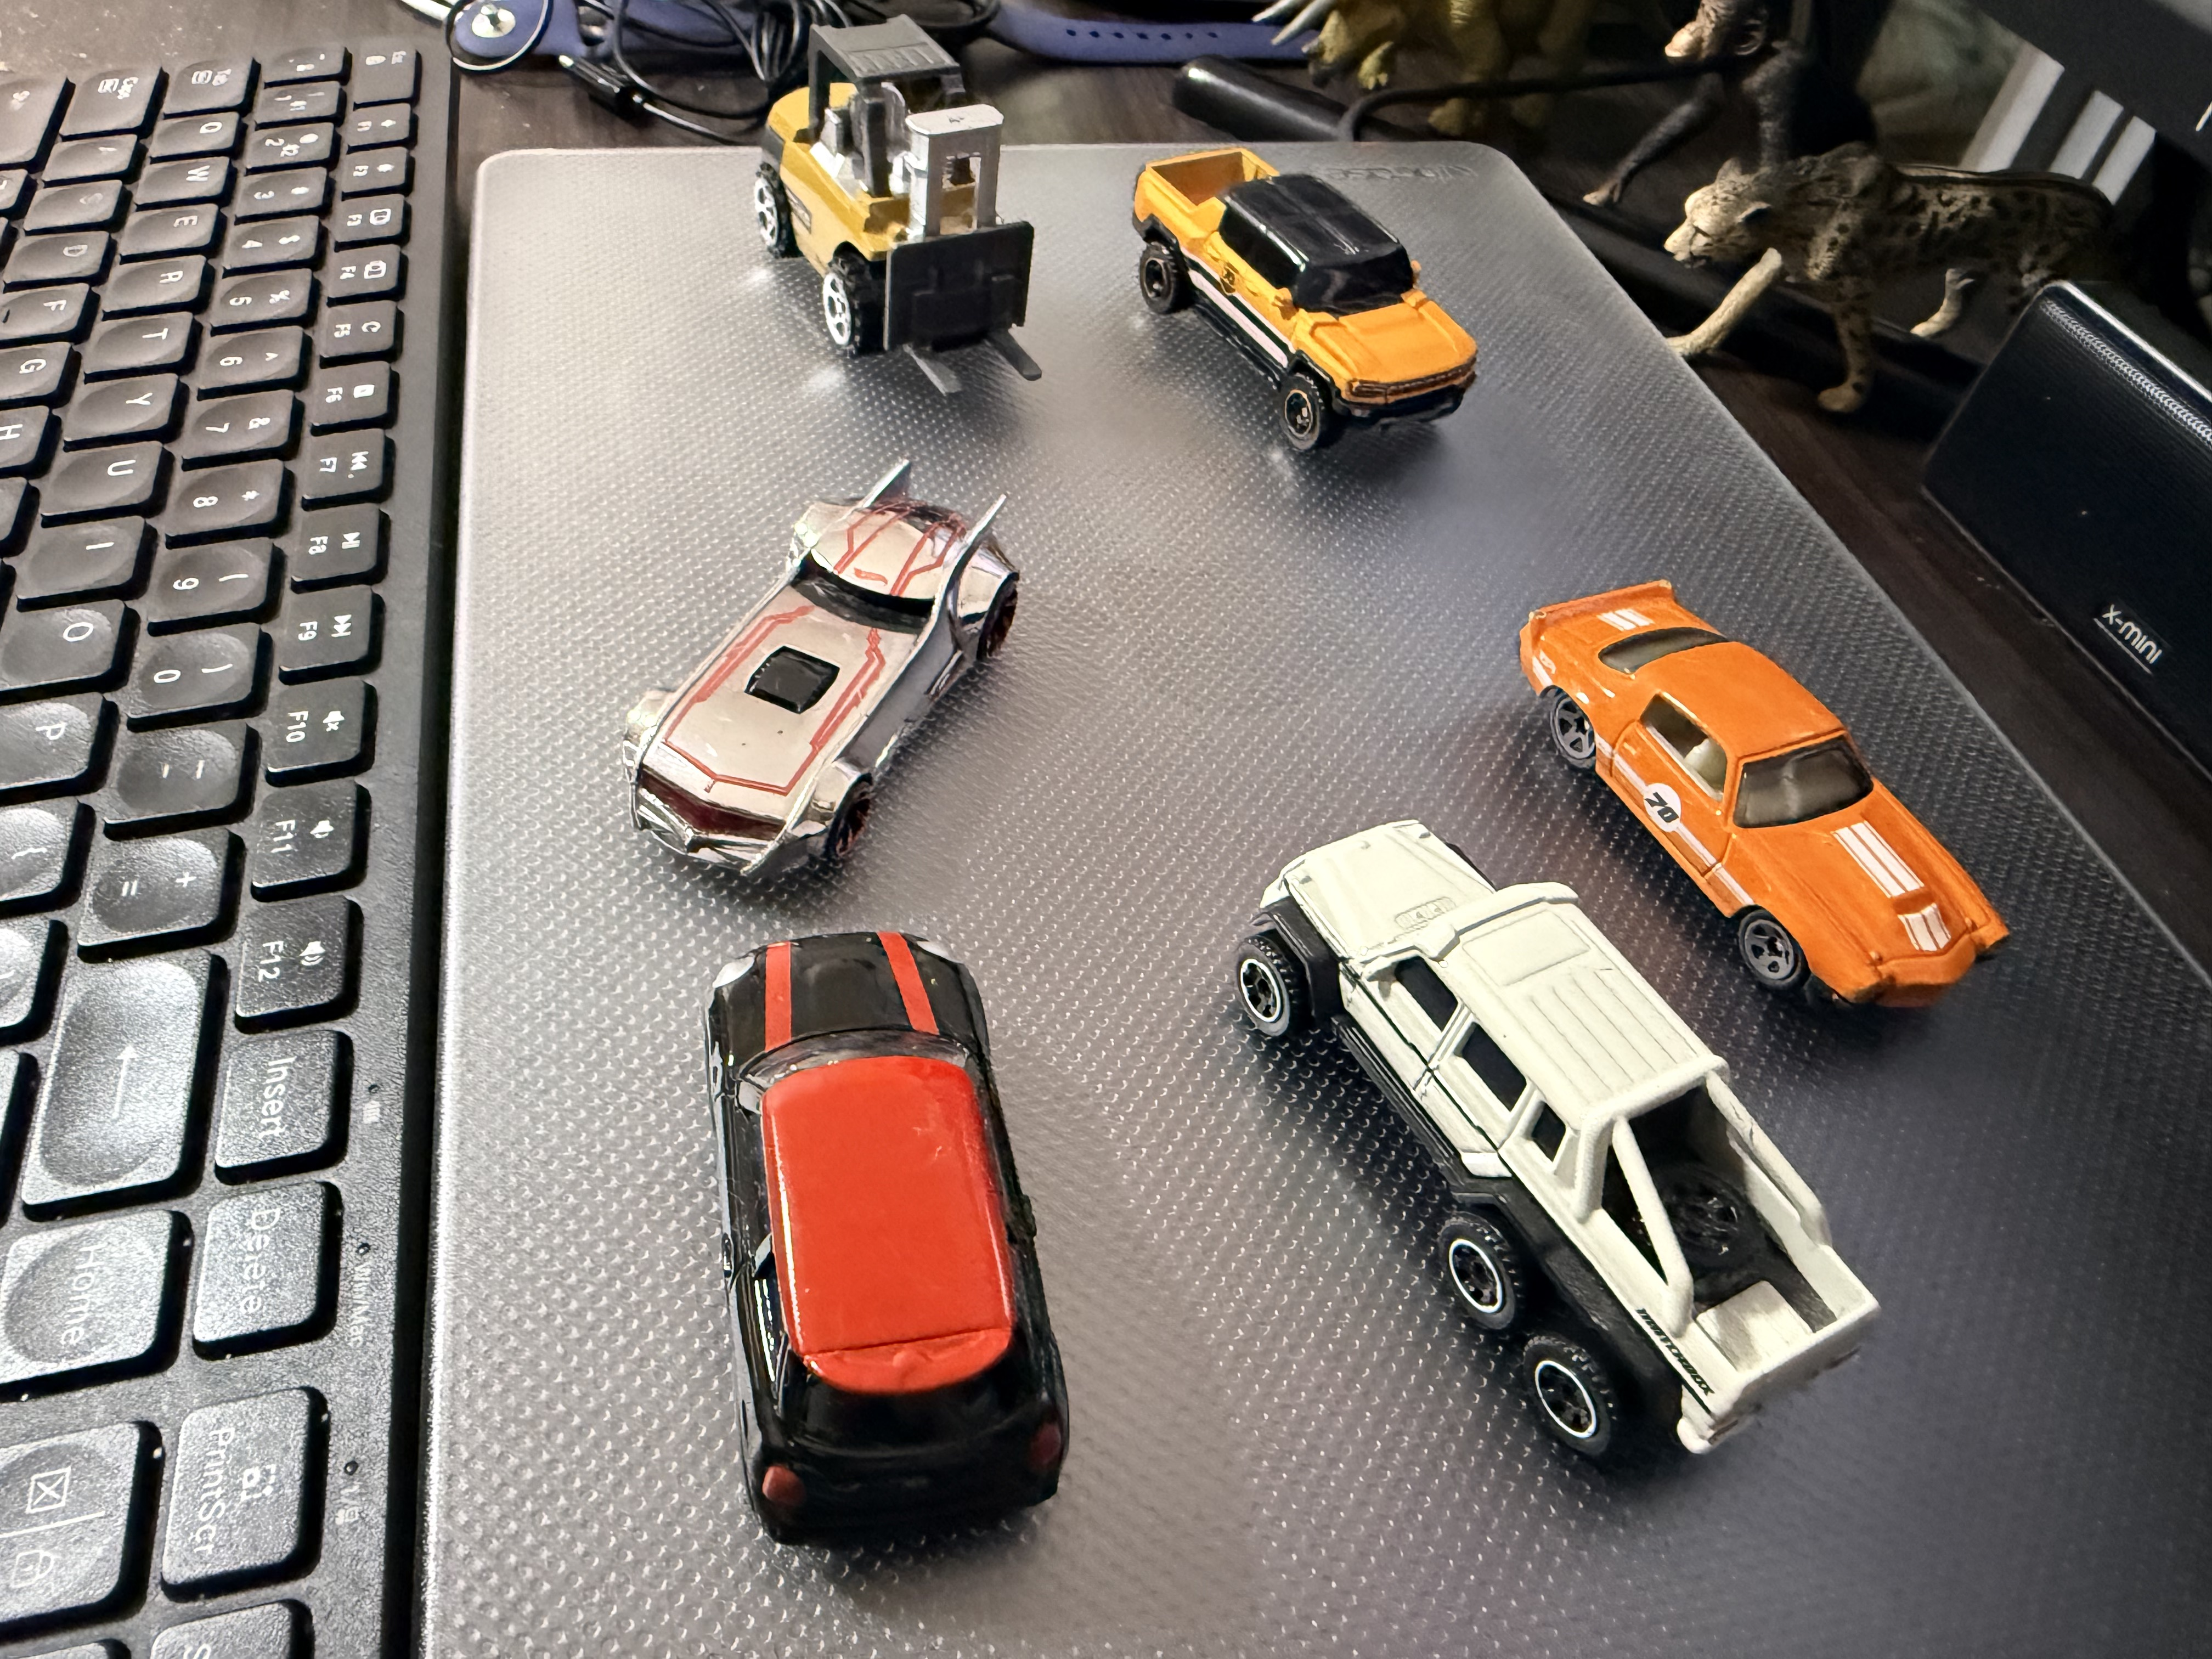camaro_rs: (1514, 575, 2017, 1023)
dc_comics: (613, 446, 1024, 897)
forklift: (751, 17, 1043, 399)
gmc_hummer: (1127, 141, 1482, 464)
mercedes_benz: (1230, 814, 1892, 1469)
mini_cooper: (698, 920, 1078, 1558)
